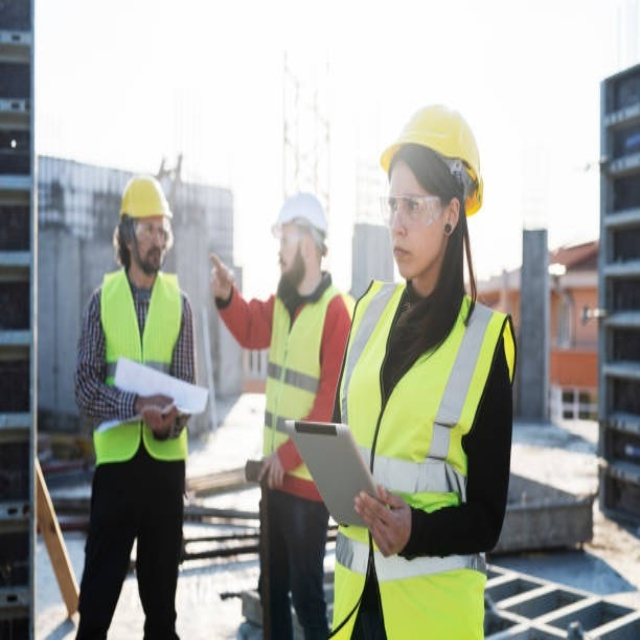Gafas: (380, 193, 445, 232), (136, 218, 173, 243), (276, 226, 313, 248)
Sin_guantes: (354, 485, 411, 558), (136, 393, 177, 429), (257, 446, 285, 488)
Sin_mascara: (391, 234, 421, 281), (276, 251, 296, 281), (141, 242, 161, 264)
